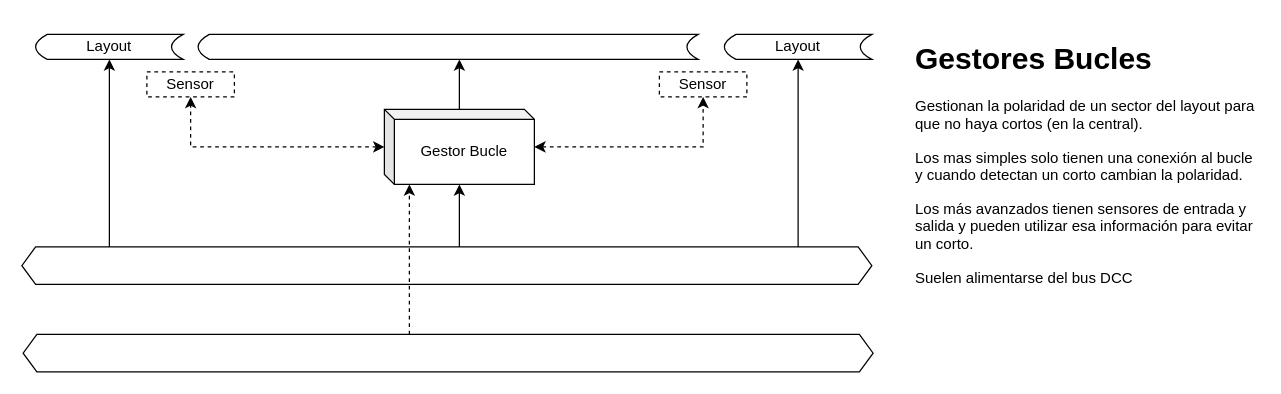
Some shapes in this 1281 by 394 pixel diagram are drawn without their labels. The box of each missing label's shape, as (x1, y1, x2, y2) in pixels:
Bus DCC: (21, 246, 872, 284)
Layout Bucle: (197, 33, 698, 59)
Power Bus (220V AC, 12 AC,...): (22, 333, 873, 372)
